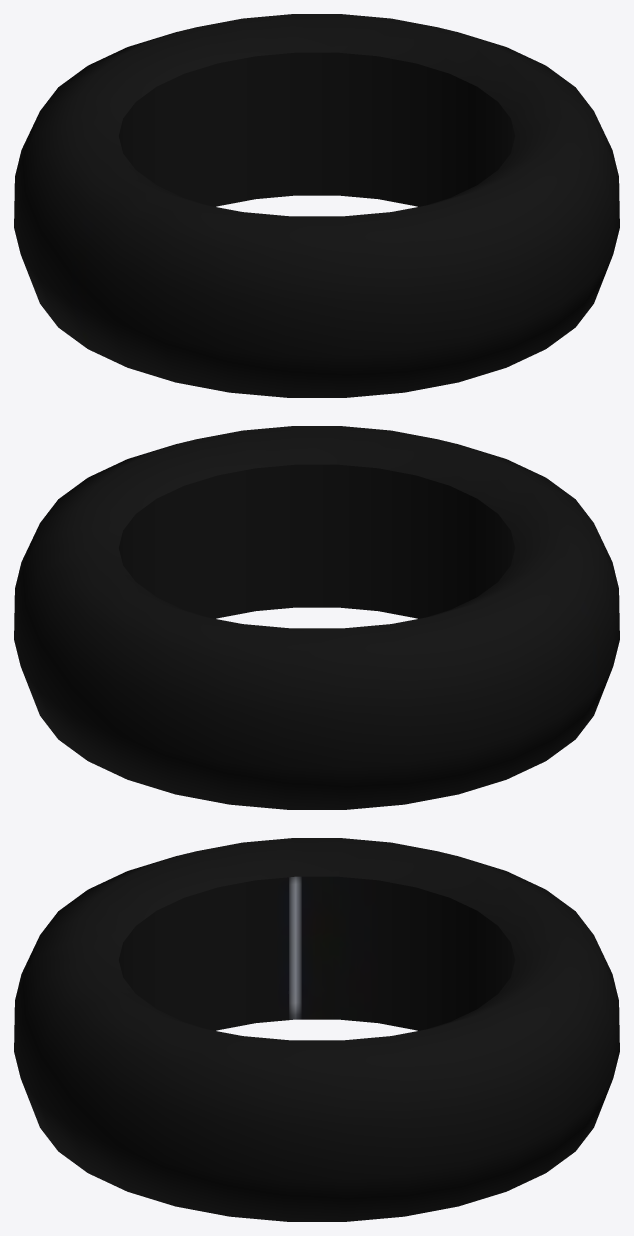
File: van_tire.obj
3 views of the same model, one above another, from view 1: azimuth 30°, elevation 25°; view 2: azimuth 150°, elevation 25°; view 3: azimuth 270°, elevation 25° (orthographic).
Visible parts, largest first — view 1: Volks_Van_Tire_0416; view 2: Volks_Van_Tire_0416; view 3: Volks_Van_Tire_0416.
Part boxes in pixels (x1,y1,x2,y2): Volks_Van_Tire_0416: (14, 14, 619, 397); Volks_Van_Tire_0416: (14, 426, 619, 809); Volks_Van_Tire_0416: (14, 838, 619, 1221).
Size of the model in its own units: 0.7522 by 0.2252 by 0.7564.
Materials: 1 (1 with a texture image).
